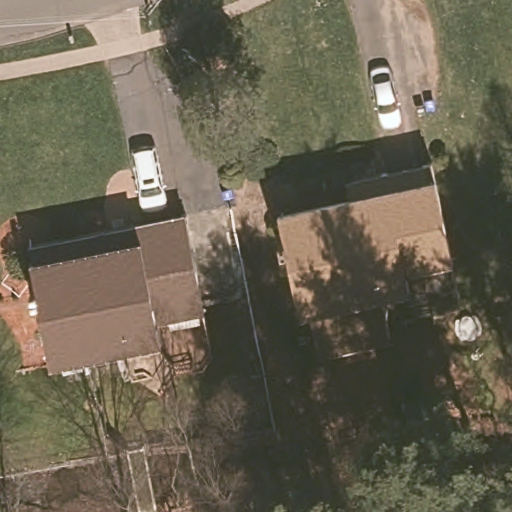DT: (137, 1, 162, 29)
